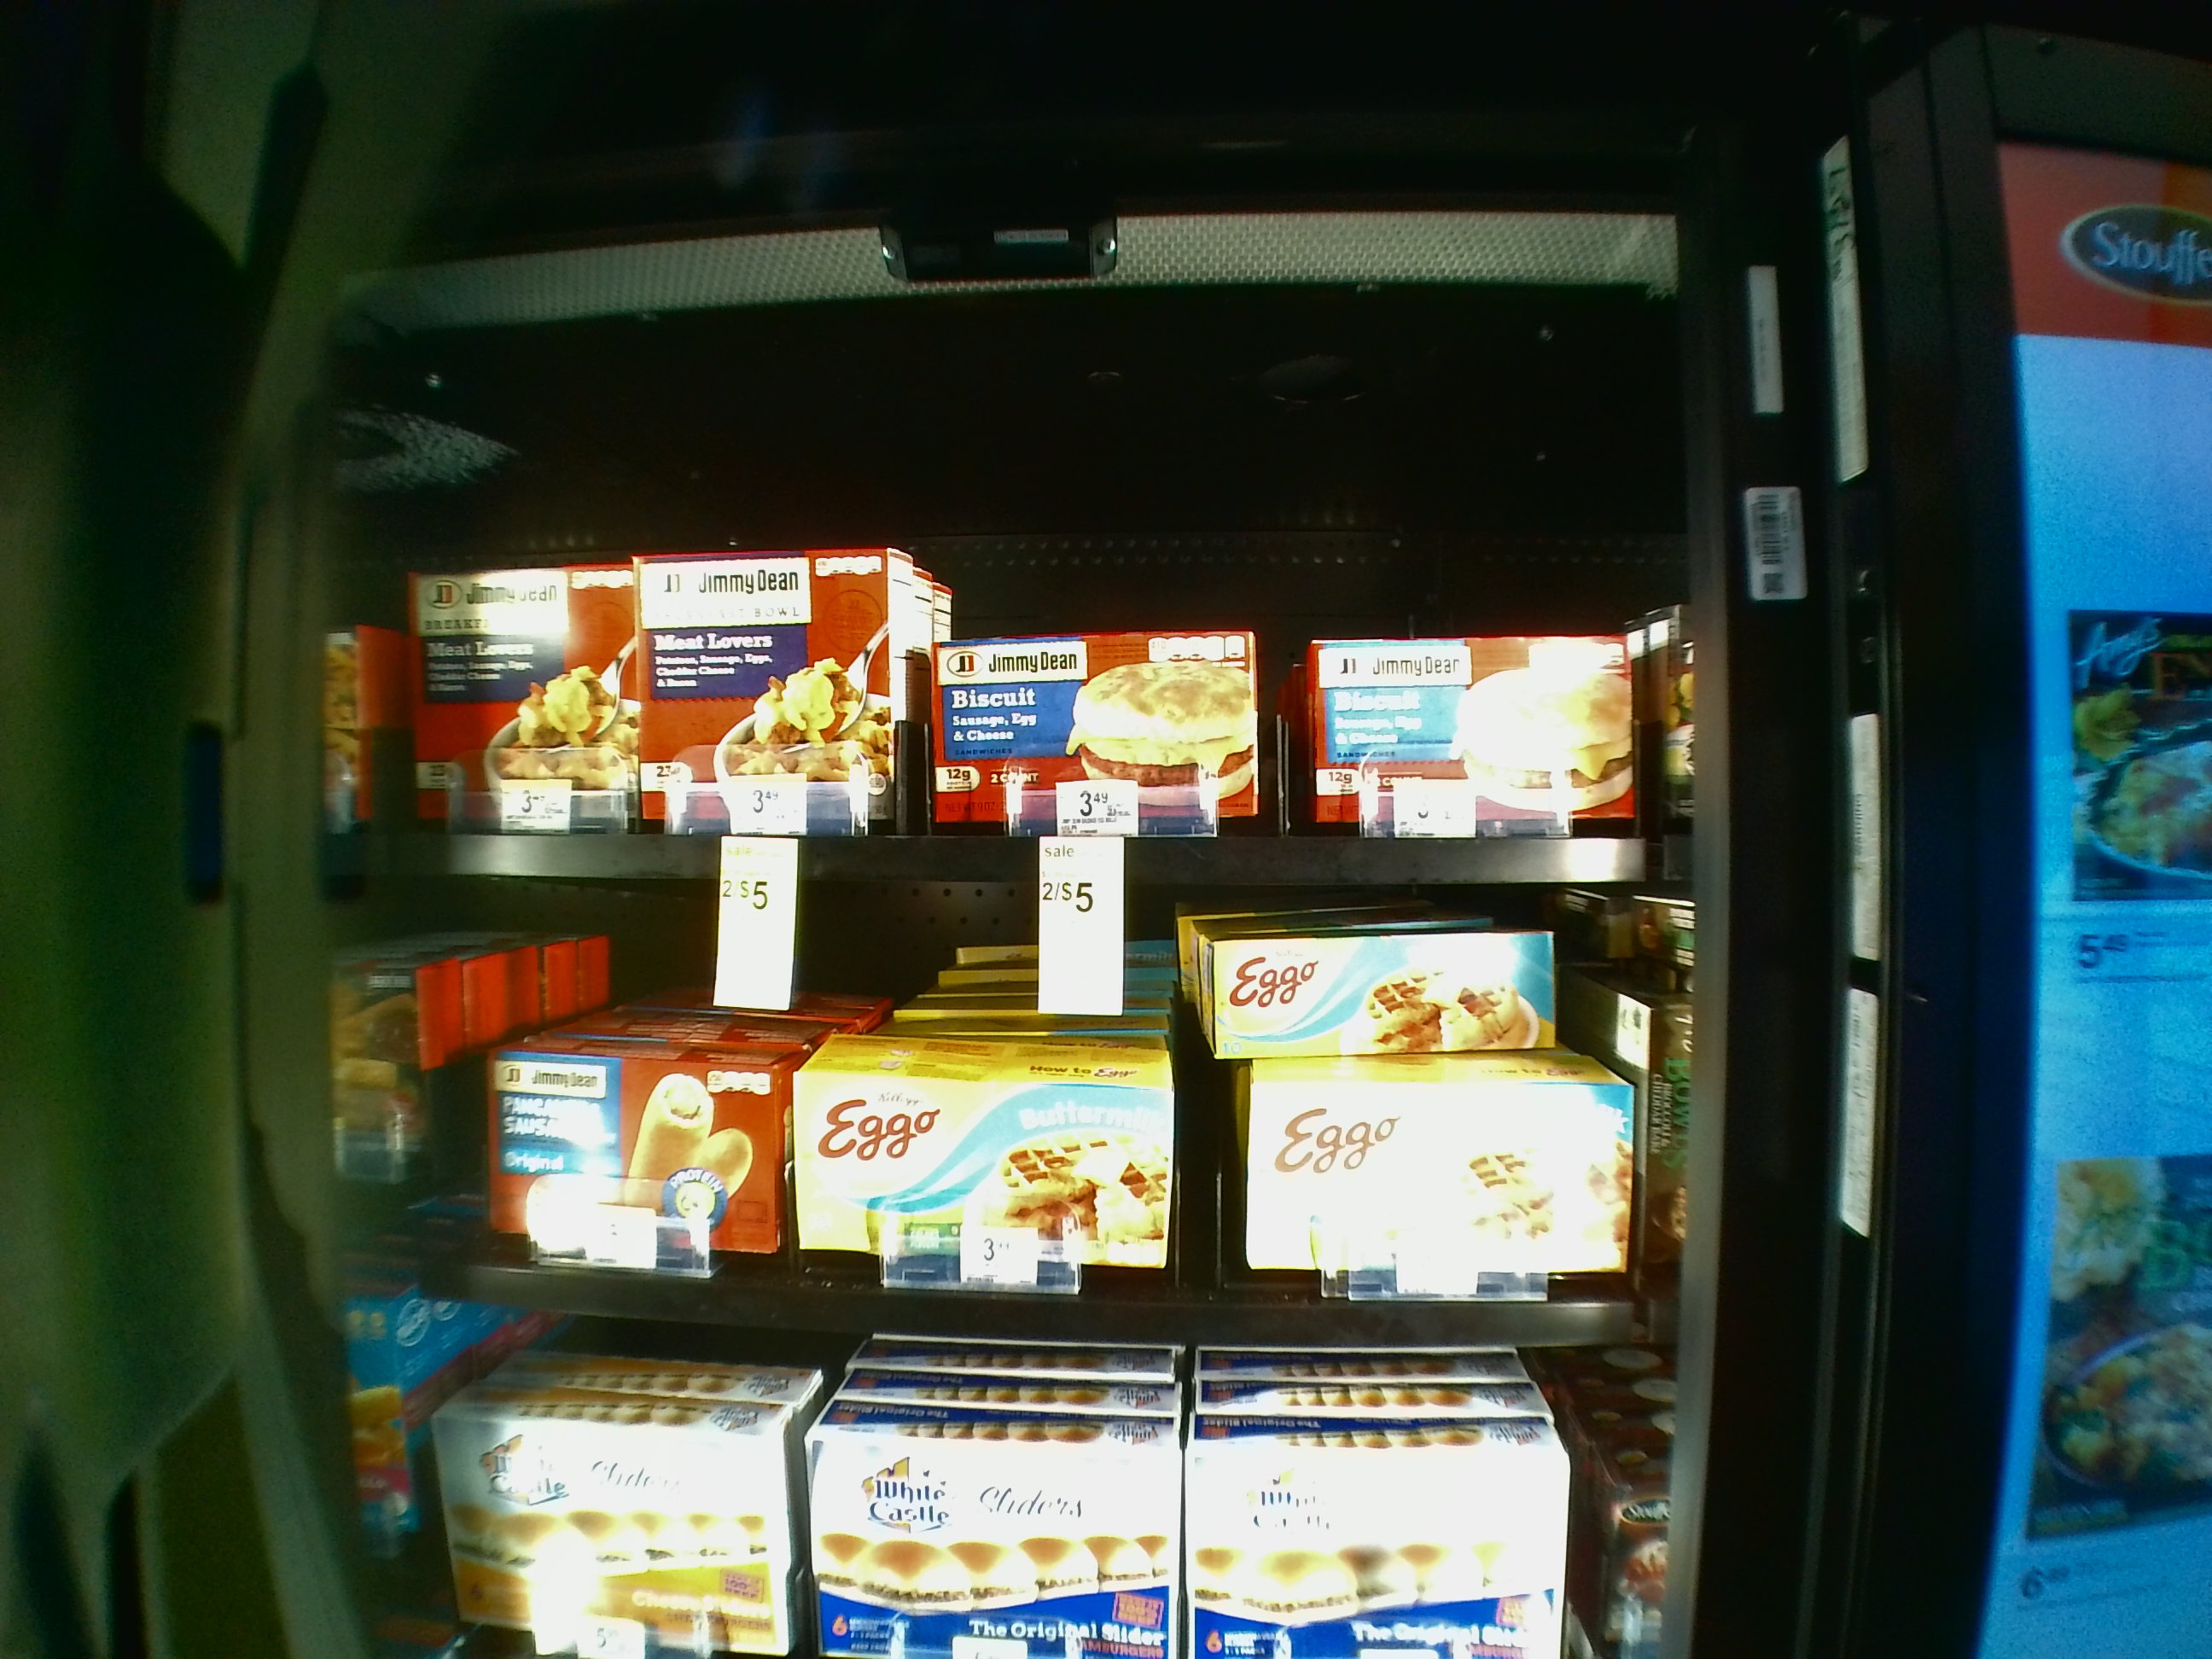shelf: (381, 347, 1679, 884), (374, 897, 1679, 1351)
